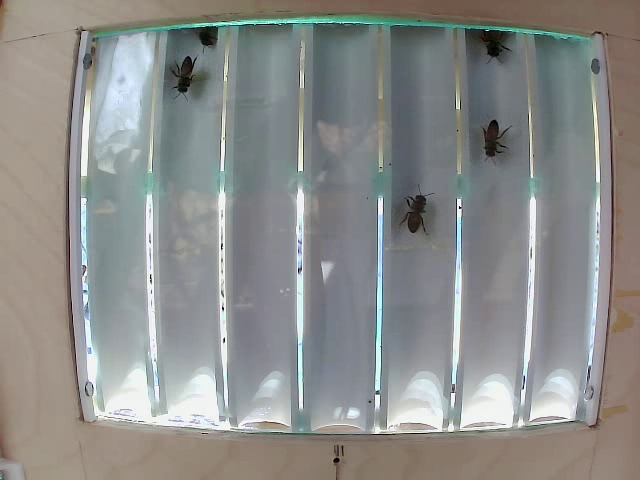bee: (391, 177, 448, 250), (475, 108, 521, 169), (479, 23, 525, 80), (161, 51, 207, 106)
